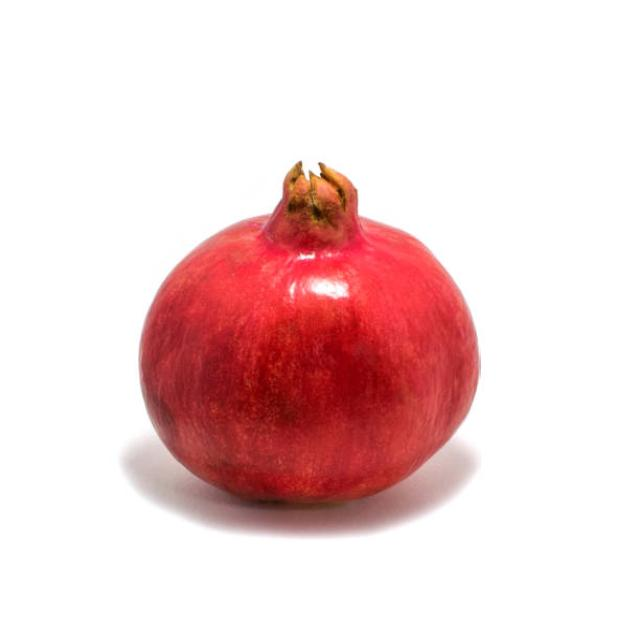Ripe: (131, 158, 486, 519)
